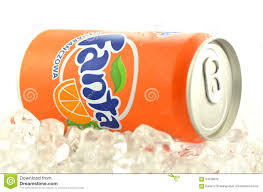fanta: (22, 28, 232, 140)
